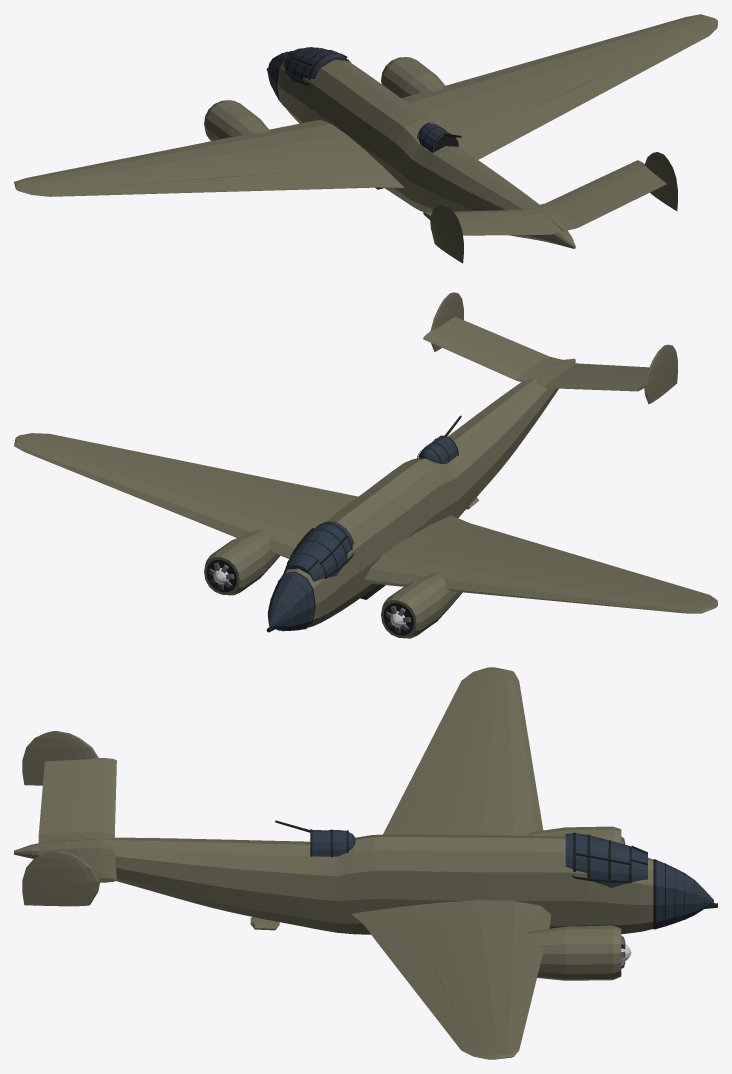
The model's file is leo451.glb.
3 views of the same model, one above another, from view 1: azimuth 30°, elevation 25°; view 2: azimuth 150°, elevation 25°; view 3: azimuth 270°, elevation 25° (orthographic). The views are drawn at different scales.
Visible parts, largest first — view 1: Fuselage, Wing L, Wing R, Nacelles, Flap L, Flap R, Stabilizer R, Aileron R, Aileron L, Elevator R, Stabilizer L, Cockpit Glass (+8 smaller); view 2: Fuselage, Wing L, Wing R, Nacelles, Stabilizer R, Cockpit Glass, Nose Glass, Stabilizer L, Flap L, Flap R, Aileron R, Elevator R (+7 smaller); view 3: Fuselage, Wing R, Wing L, Nacelles, Stabilizer L, Flap R, Cockpit Glass, Nose Glass, Aileron L, Vertical Fin 2, Elevator L, Aileron R (+7 smaller).
Boxes of the visible parts, x1=… form: Fuselage: x1=277, y1=57, x2=575, y2=248; Wing L: x1=14, y1=119, x2=404, y2=196; Wing R: x1=401, y1=14, x2=717, y2=140; Nacelles: x1=204, y1=57, x2=445, y2=140; Flap L: x1=223, y1=166, x2=394, y2=191; Flap R: x1=458, y1=96, x2=571, y2=159; Stabilizer R: x1=537, y1=160, x2=655, y2=220; Aileron R: x1=564, y1=28, x2=711, y2=106; Aileron L: x1=40, y1=178, x2=228, y2=196; Elevator R: x1=553, y1=175, x2=666, y2=231; Stabilizer L: x1=423, y1=207, x2=551, y2=225; Cockpit Glass: x1=283, y1=47, x2=350, y2=82; Fuselage: x1=269, y1=358, x2=575, y2=627; Wing L: x1=364, y1=515, x2=717, y2=613; Wing R: x1=14, y1=433, x2=345, y2=558; Nacelles: x1=204, y1=530, x2=462, y2=638; Stabilizer R: x1=423, y1=323, x2=551, y2=381; Cockpit Glass: x1=283, y1=521, x2=354, y2=581; Nose Glass: x1=268, y1=573, x2=313, y2=630; Stabilizer L: x1=537, y1=366, x2=646, y2=391; Flap L: x1=437, y1=518, x2=571, y2=559; Flap R: x1=224, y1=472, x2=357, y2=505; Aileron R: x1=40, y1=433, x2=228, y2=476; Elevator R: x1=445, y1=316, x2=563, y2=366; Fuselage: x1=14, y1=834, x2=653, y2=934; Wing R: x1=351, y1=900, x2=551, y2=1059; Wing L: x1=406, y1=667, x2=543, y2=835; Nacelles: x1=527, y1=826, x2=621, y2=980; Stabilizer L: x1=64, y1=757, x2=116, y2=840; Flap R: x1=355, y1=910, x2=436, y2=978; Cockpit Glass: x1=565, y1=833, x2=647, y2=887; Nose Glass: x1=656, y1=860, x2=713, y2=928; Aileron L: x1=408, y1=677, x2=476, y2=785; Vertical Fin 2: x1=51, y1=851, x2=100, y2=906; Elevator L: x1=38, y1=760, x2=69, y2=843; Aileron R: x1=408, y1=977, x2=476, y2=1051.
Size of the model in its own units: 22.52 by 3.92 by 17.1.
